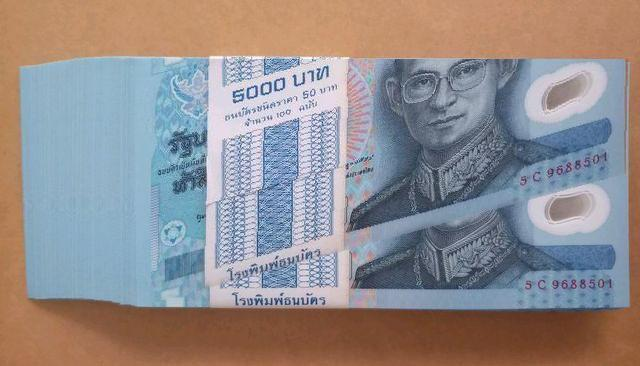50BahtTai: (151, 60, 631, 306)
